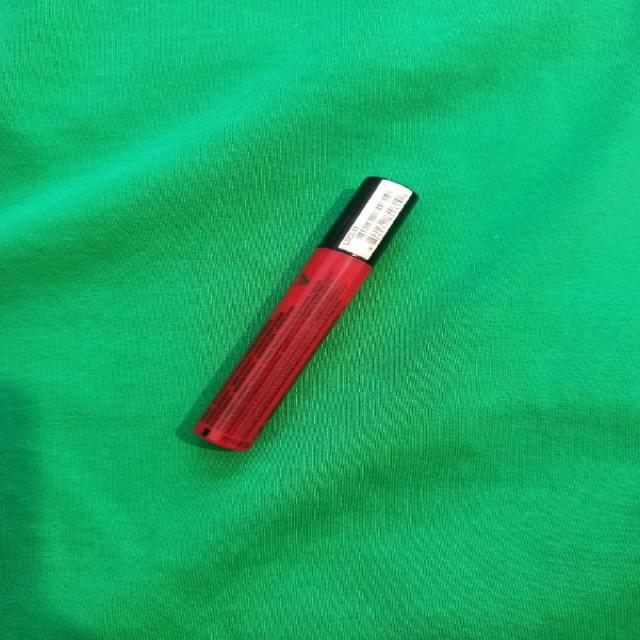lipstick: (192, 175, 418, 452)
